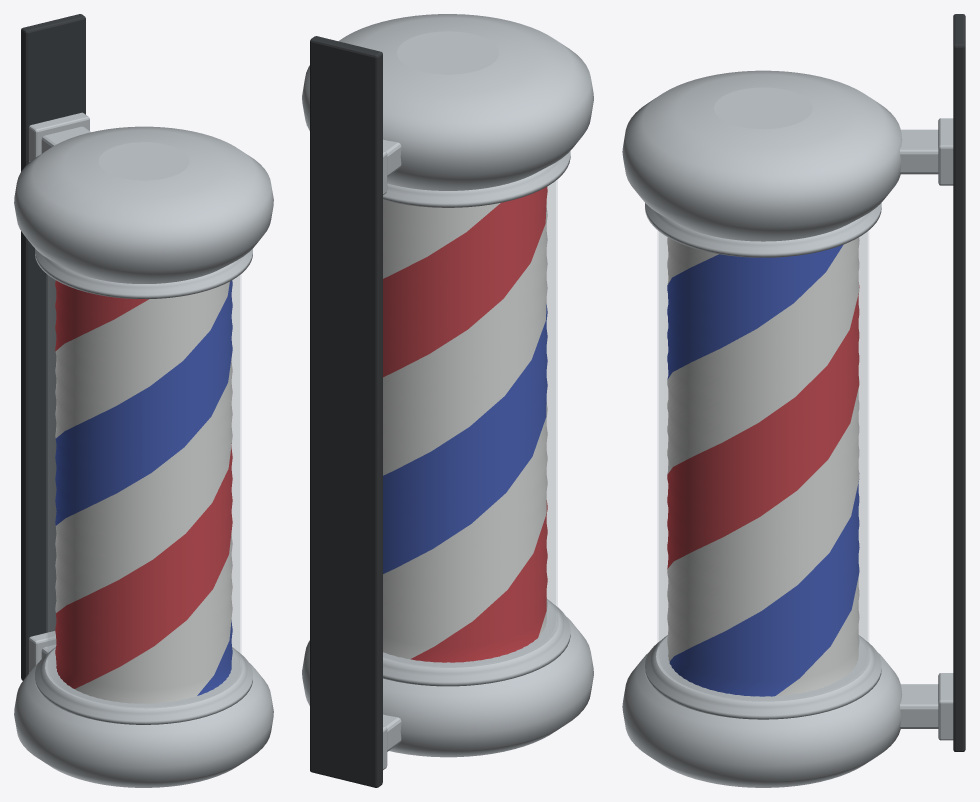
Rendered from full.glb.
3 views of the same model, side by side, from view 1: azimuth 30°, elevation 25°; view 2: azimuth 150°, elevation 25°; view 3: azimuth 270°, elevation 25° (orthographic). The views are drawn at different scales.
Visible parts, largest first — view 1: Transparent protective sleeve, Own helical stripe drum, Upper rounded housing, Vertical wall mounting plate, Lower rounded housing, Lower stepped retaining collar, Upper stepped retaining collar, Upper plate mounting saddle, Lower plate mounting saddle, Upper rear support band; view 2: Transparent protective sleeve, Own helical stripe drum, Vertical wall mounting plate, Upper rounded housing, Lower rounded housing, Lower stepped retaining collar, Upper stepped retaining collar; view 3: Transparent protective sleeve, Own helical stripe drum, Upper rounded housing, Lower rounded housing, Vertical wall mounting plate, Lower stepped retaining collar, Upper stepped retaining collar, Upper rear support band, Lower rear support band, Upper plate mounting saddle, Lower plate mounting saddle.
Boxes of the visible parts, bbox=[...] form: Transparent protective sleeve: bbox=[46, 274, 241, 707]; Own helical stripe drum: bbox=[55, 280, 232, 703]; Upper rounded housing: bbox=[14, 126, 273, 283]; Vertical wall mounting plate: bbox=[21, 14, 85, 680]; Lower rounded housing: bbox=[14, 662, 273, 787]; Lower stepped retaining collar: bbox=[35, 647, 252, 724]; Upper stepped retaining collar: bbox=[35, 249, 252, 299]; Upper plate mounting saddle: bbox=[29, 112, 89, 161]; Lower plate mounting saddle: bbox=[29, 631, 56, 672]; Upper rear support band: bbox=[41, 126, 90, 153]; Transparent protective sleeve: bbox=[383, 179, 557, 666]; Own helical stripe drum: bbox=[383, 187, 547, 662]; Vertical wall mounting plate: bbox=[310, 36, 382, 787]; Upper rounded housing: bbox=[302, 14, 593, 190]; Lower rounded housing: bbox=[302, 617, 593, 757]; Lower stepped retaining collar: bbox=[383, 599, 570, 686]; Upper stepped retaining collar: bbox=[383, 151, 570, 207]; Transparent protective sleeve: bbox=[657, 231, 868, 700]; Own helical stripe drum: bbox=[667, 237, 859, 696]; Upper rounded housing: bbox=[622, 70, 902, 241]; Lower rounded housing: bbox=[622, 652, 902, 787]; Vertical wall mounting plate: bbox=[953, 14, 965, 751]; Lower stepped retaining collar: bbox=[645, 635, 881, 719]; Upper stepped retaining collar: bbox=[645, 203, 881, 257]; Upper rear support band: bbox=[900, 129, 938, 174]; Lower rear support band: bbox=[900, 684, 938, 728]; Upper plate mounting saddle: bbox=[938, 118, 953, 185]; Lower plate mounting saddle: bbox=[938, 673, 953, 740].
Size of the model in its own units: 0.2286 by 0.6452 by 0.2783.
